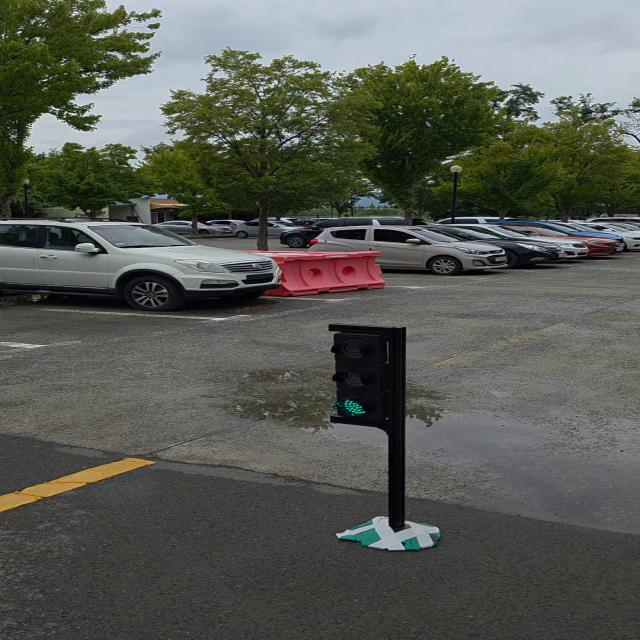green: (324, 325, 412, 432)
